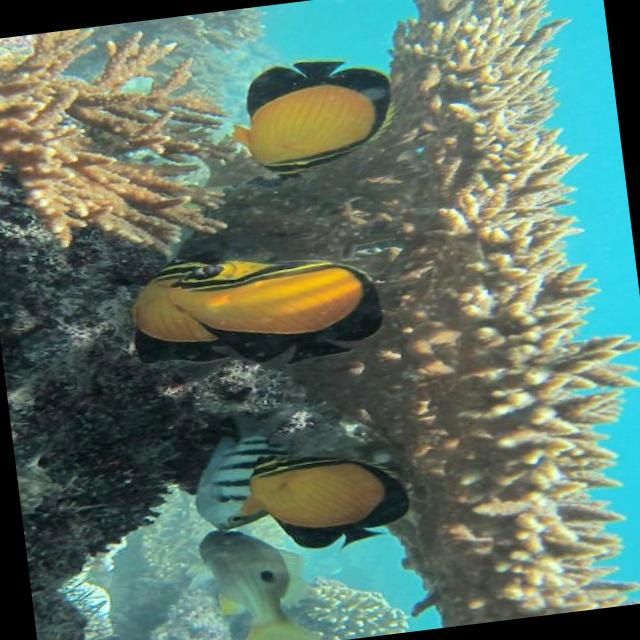ButterflyFish: (203, 234, 391, 384), (216, 50, 407, 186), (241, 433, 420, 563), (123, 255, 234, 371)
